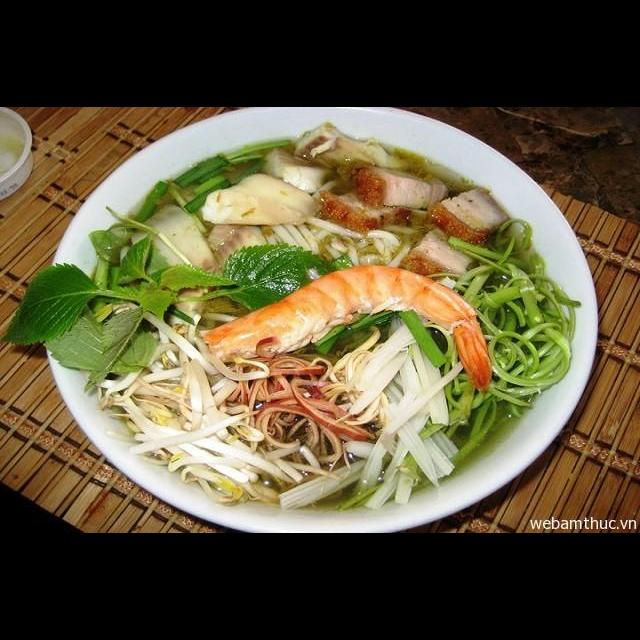bun: (256, 210, 419, 275)
ca: (196, 163, 325, 230), (123, 198, 225, 282), (281, 115, 400, 174), (253, 140, 337, 200), (196, 214, 274, 273)
thit heo quay: (342, 153, 460, 215), (421, 177, 513, 246), (392, 222, 489, 287), (315, 179, 429, 234)
tom: (192, 258, 498, 400)
